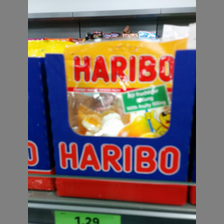candy: (52, 39, 189, 139)
